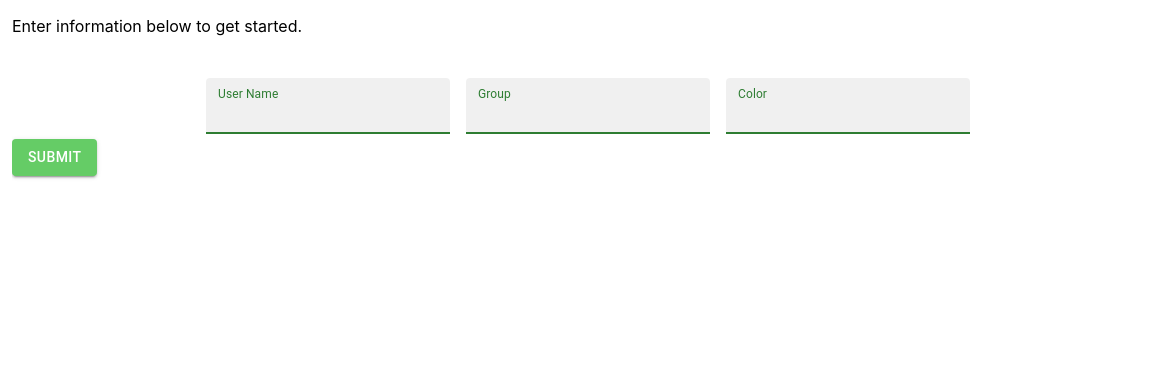
Test: AddUserForm Component › renders success message and card if user submits all fields
This screenshot has width=1164, height=390.
// submit form and click button
Type "Raheema" into the text "User Name".
click(248, 94); type("Raheema")  # box [218, 85, 278, 102]
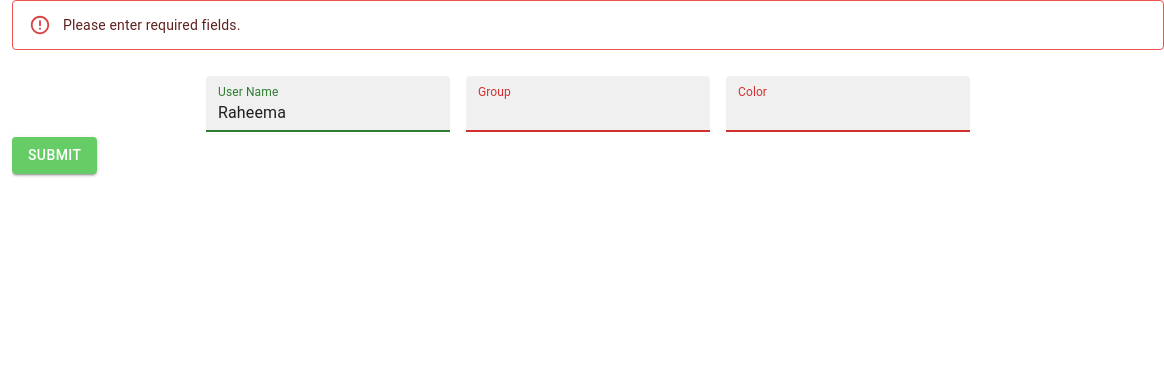
Type "red" into the text "Color".
click(753, 92); type("red")  # box [738, 83, 767, 100]
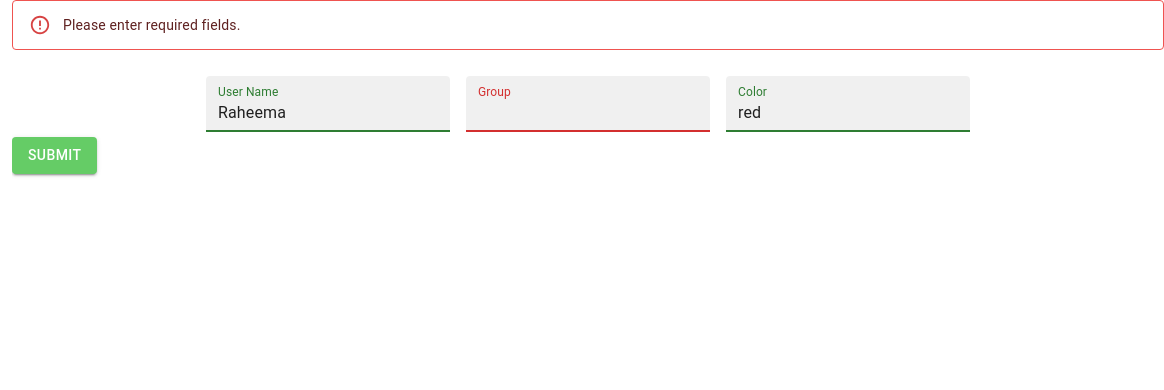
Type "Group1" into the text "Group".
click(494, 92); type("Group1")  # box [478, 83, 511, 100]
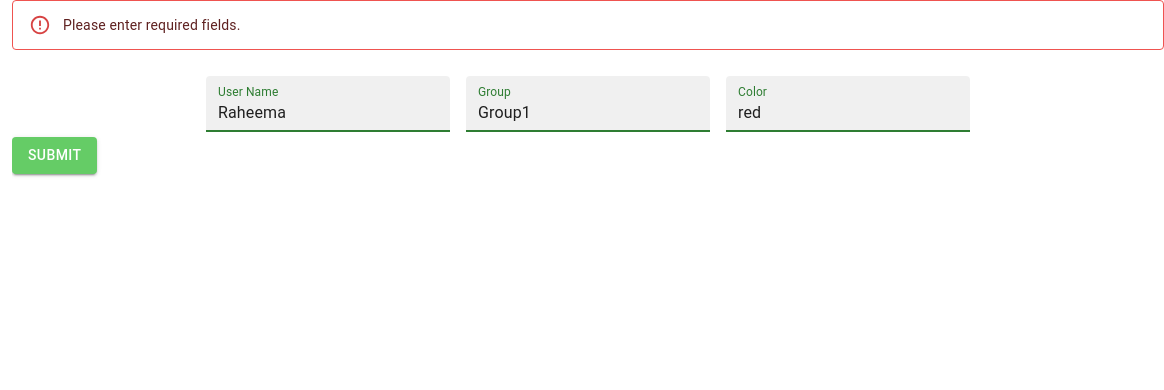
Click the button "Submit".
click(55, 155)  # box [12, 137, 97, 174]
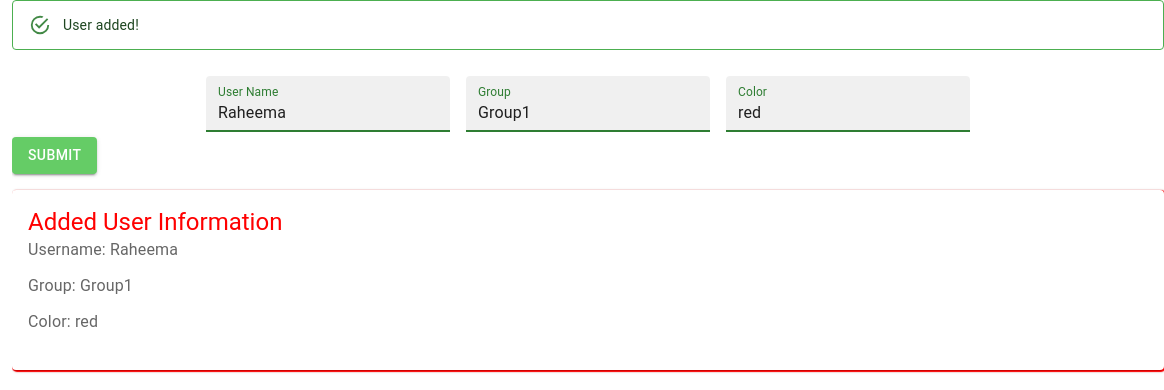
Expected: the text "User added!" is shown, [63, 17, 139, 33]
Expected: the text "Added User Information" is shown, [28, 208, 282, 236]
